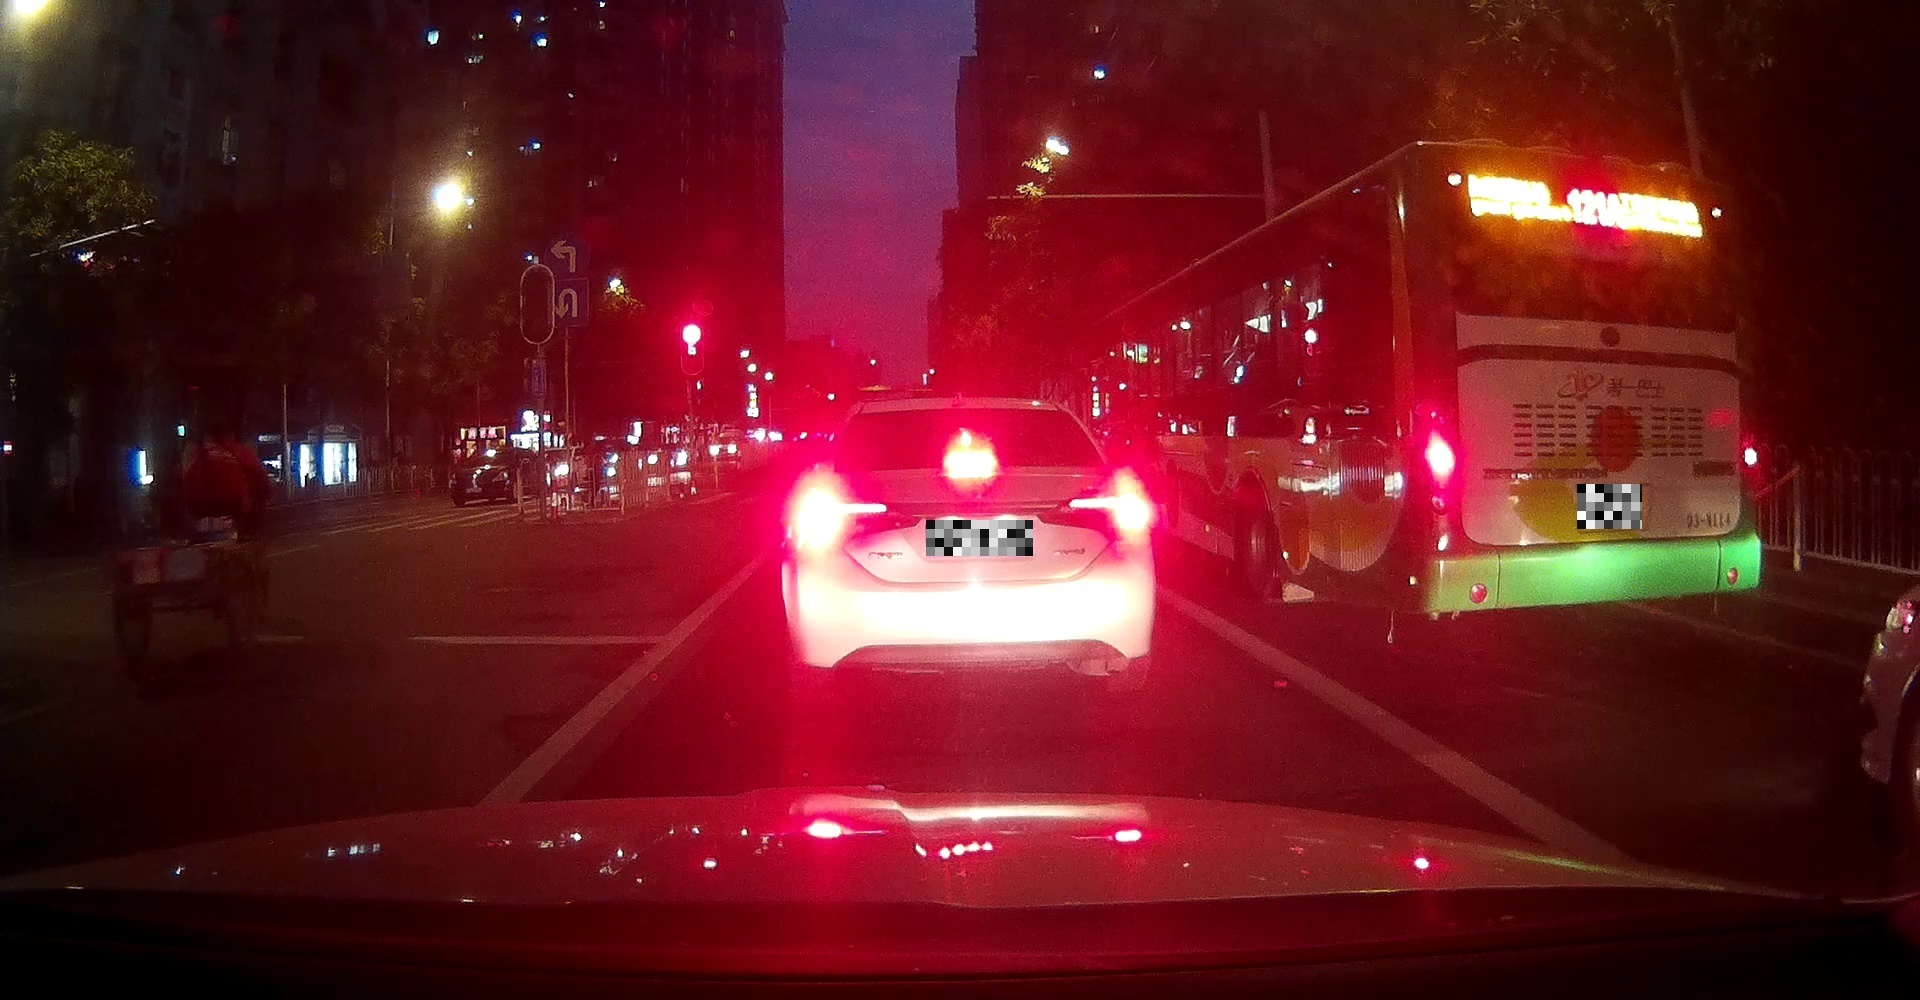L_light: (790, 489, 886, 549), (1423, 437, 1457, 475)
R_light: (1068, 478, 1150, 530), (1743, 447, 1757, 464)
T_light: (945, 451, 996, 471), (1561, 168, 1603, 176)
night-brake: (789, 396, 1153, 694)
night-no: (1412, 143, 1759, 659)
plate_1: (926, 520, 1032, 556)
plate_2: (1577, 484, 1642, 529)
